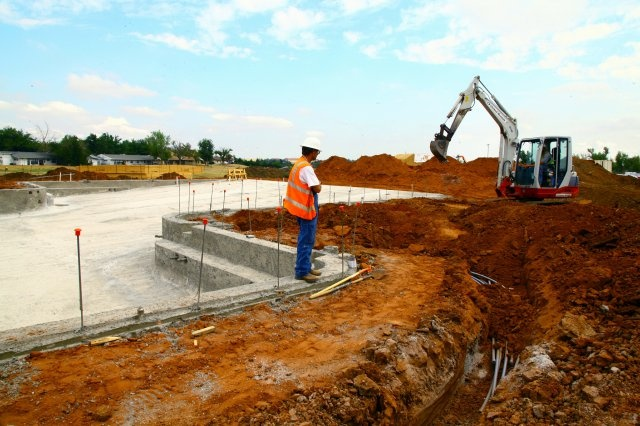white: (296, 135, 322, 162)
